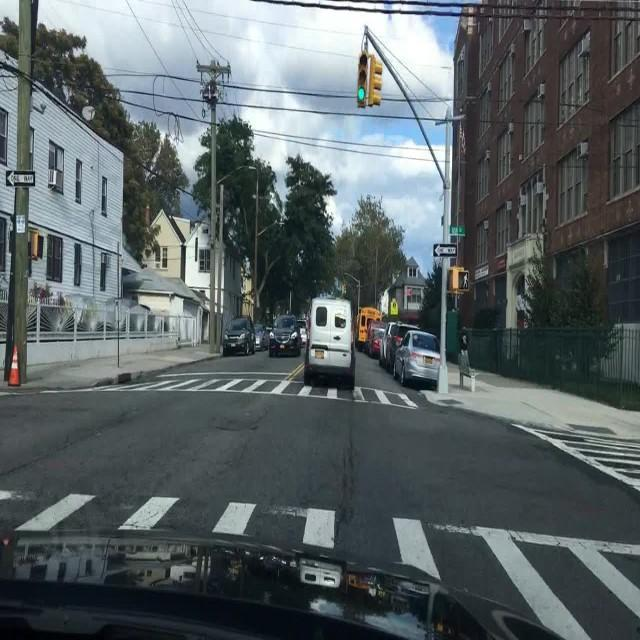normal: (309, 296, 358, 383), (393, 328, 440, 389), (268, 315, 305, 358), (220, 319, 255, 356), (367, 325, 385, 359)
